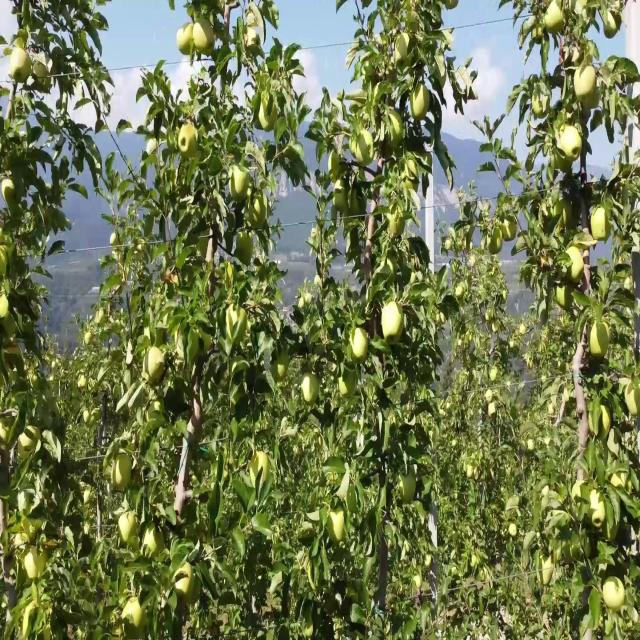apple: (124, 597, 148, 639), (576, 63, 597, 110), (176, 568, 201, 606), (384, 305, 406, 348), (576, 71, 599, 112), (144, 348, 167, 386), (176, 568, 200, 604), (592, 319, 612, 361), (228, 305, 248, 347), (396, 35, 419, 69), (592, 206, 612, 242), (12, 49, 32, 85), (412, 85, 432, 121), (196, 21, 216, 57), (328, 504, 346, 544), (564, 127, 583, 164), (180, 127, 200, 162), (588, 490, 606, 528), (120, 511, 139, 546), (232, 170, 251, 204), (260, 99, 279, 133), (356, 135, 376, 167), (144, 526, 164, 558), (604, 583, 625, 613), (352, 327, 369, 364), (236, 234, 255, 267), (248, 199, 268, 229), (388, 113, 405, 148), (548, 7, 566, 37), (580, 85, 600, 112), (568, 250, 584, 283), (252, 455, 271, 482), (560, 42, 579, 69), (180, 21, 194, 57), (340, 369, 357, 398), (604, 14, 622, 41), (488, 227, 504, 256), (400, 476, 416, 505), (628, 383, 640, 420), (304, 376, 319, 405), (4, 177, 19, 206), (116, 455, 132, 482), (560, 284, 574, 313), (328, 156, 343, 183), (392, 213, 406, 240), (532, 92, 545, 121), (556, 149, 572, 172), (336, 184, 348, 213), (564, 206, 579, 228), (588, 113, 604, 133), (504, 220, 518, 242), (4, 319, 18, 341), (32, 63, 50, 80), (532, 21, 545, 44), (352, 191, 363, 217), (608, 520, 619, 546), (552, 199, 564, 220), (0, 298, 11, 320), (432, 305, 443, 327), (276, 362, 288, 382), (116, 471, 128, 491), (132, 469, 143, 487), (40, 78, 52, 94), (440, 305, 449, 325), (280, 348, 291, 364), (456, 284, 466, 300), (352, 135, 359, 156), (512, 341, 520, 357), (492, 319, 500, 334), (488, 305, 495, 322), (492, 369, 499, 384), (520, 234, 527, 249), (520, 327, 528, 340), (560, 362, 568, 375), (228, 263, 234, 279), (512, 341, 519, 354), (456, 241, 463, 254), (520, 327, 527, 338), (448, 241, 453, 251)
